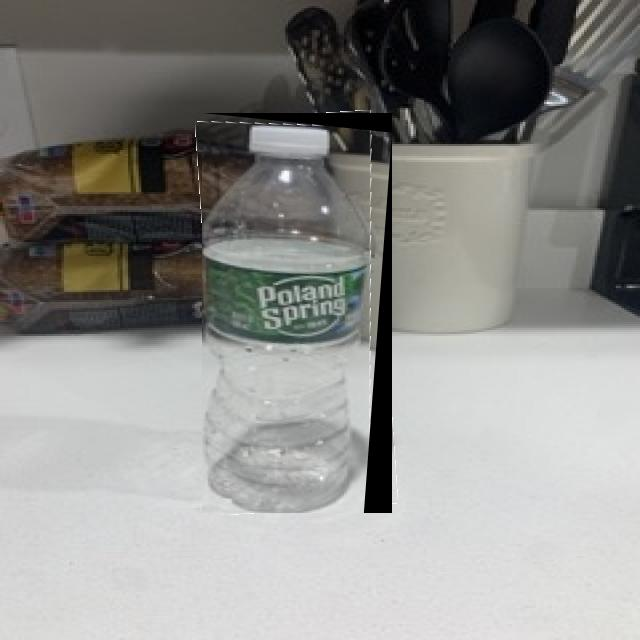water_bottle: (202, 113, 392, 513)
